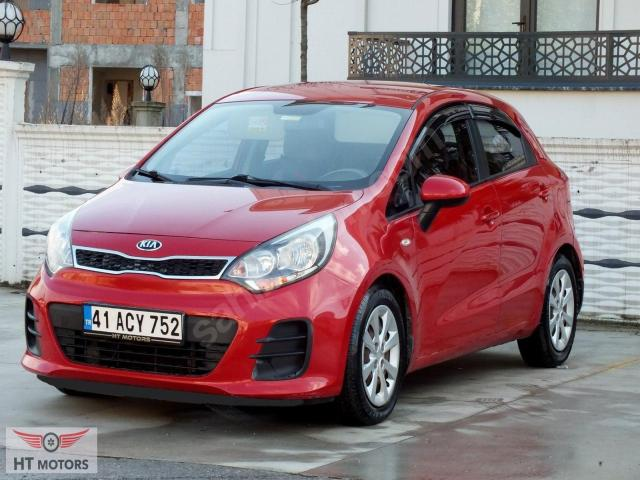plaka: (83, 305, 183, 342)
